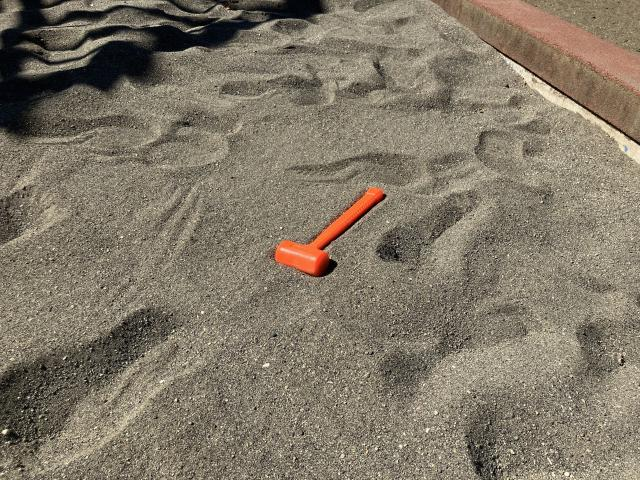hammer: (278, 186, 382, 274)
